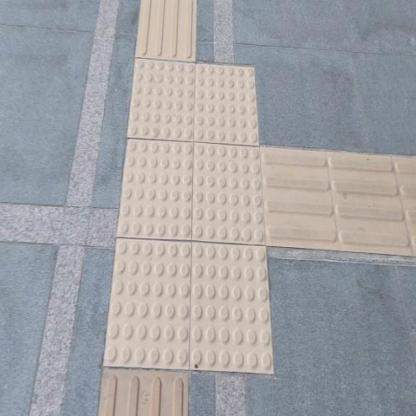podotacti: (94, 27, 289, 405), (264, 146, 416, 262), (100, 373, 189, 416), (140, 0, 195, 62)
